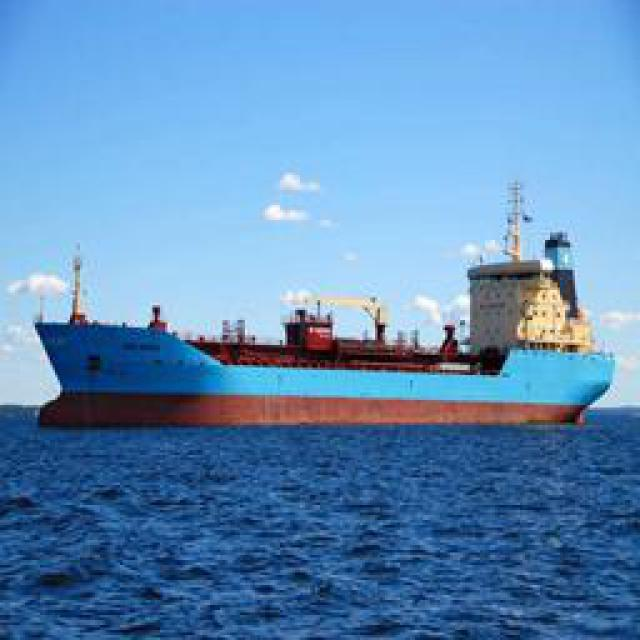Ship: (35, 240, 620, 433)
